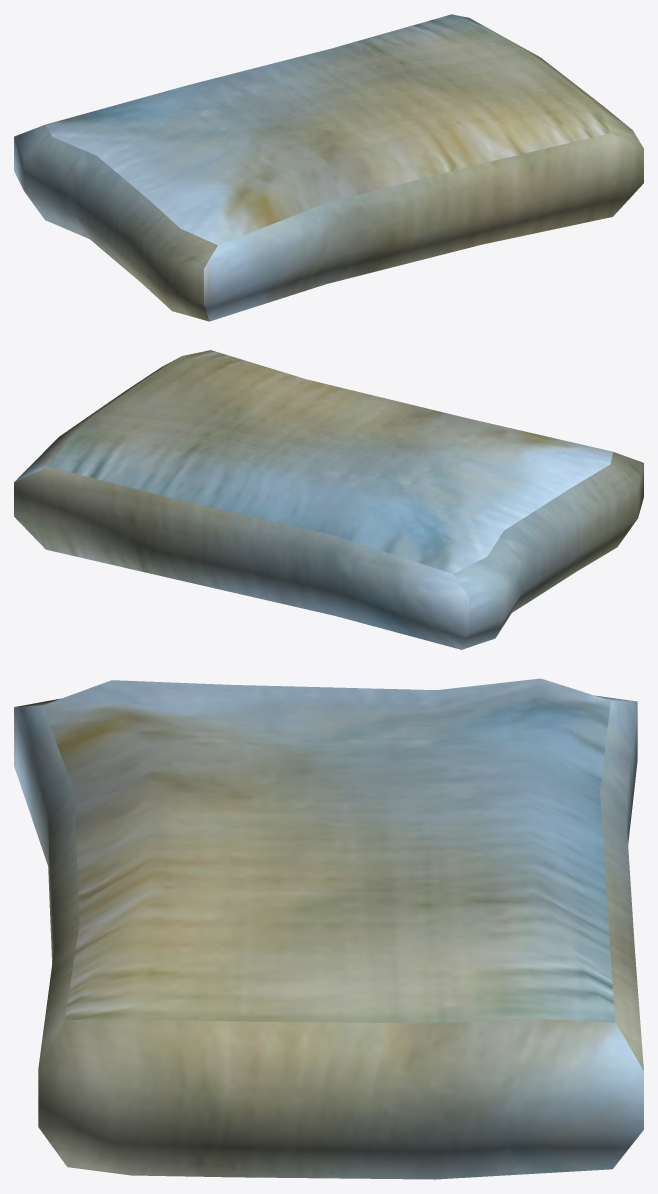
Rendered from soil_bag.FBX.
3 renders of one model, top to bottom at view 1: azimuth 30°, elevation 25°; view 2: azimuth 150°, elevation 25°; view 3: azimuth 270°, elevation 25°, orthographic. The views are drawn at different scales.
Visible parts, largest first — view 1: soil_bag; view 2: soil_bag; view 3: soil_bag.
Boxes of the visible parts, bbox=[...] form: soil_bag: bbox=[14, 14, 643, 321]; soil_bag: bbox=[14, 350, 643, 649]; soil_bag: bbox=[14, 678, 643, 1179].
Bounding box in the file's own units: 105 × 21.55 × 69.84.
